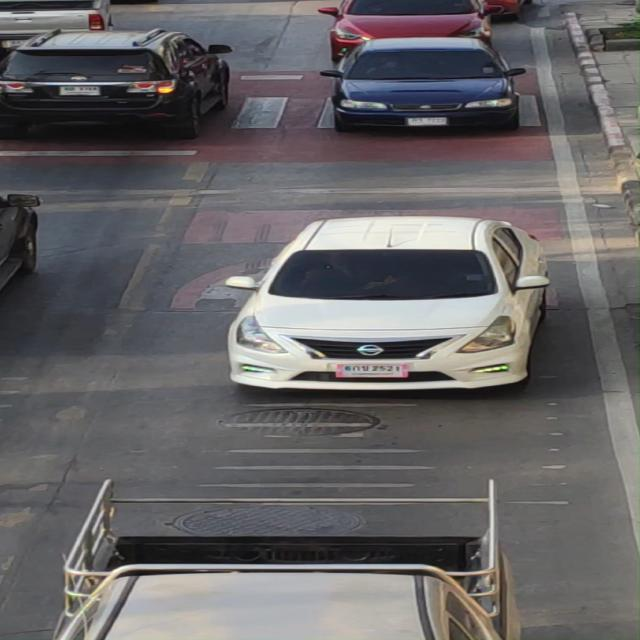car: (36, 470, 536, 640), (194, 201, 564, 425), (298, 32, 554, 146)
